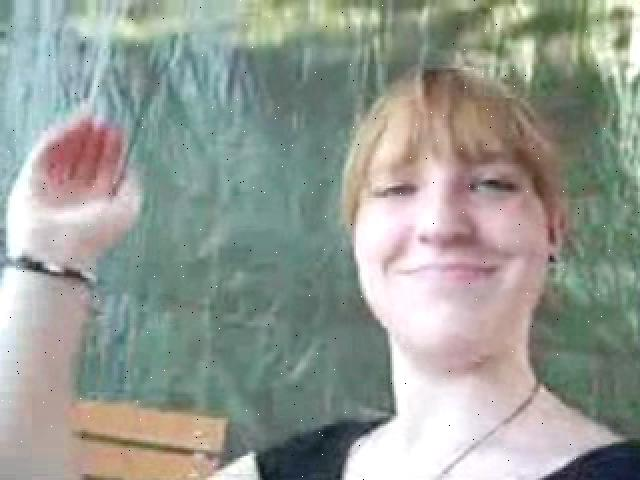T: (9, 71, 637, 474)
